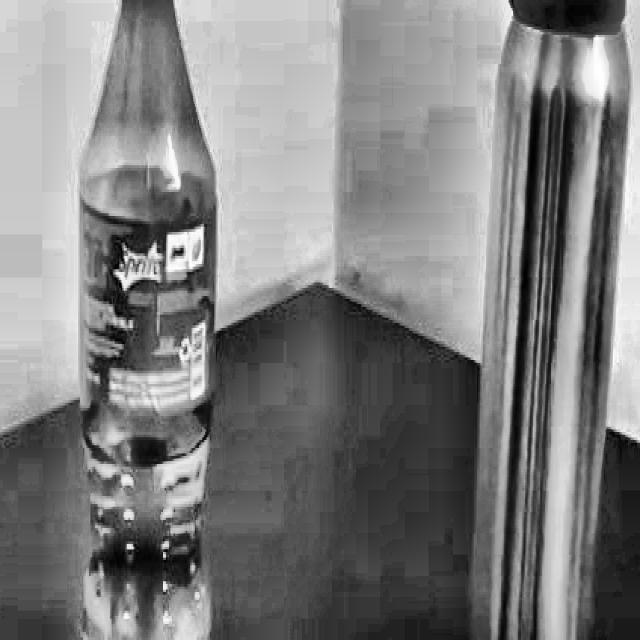bottle: (462, 0, 634, 640), (75, 0, 220, 640)
